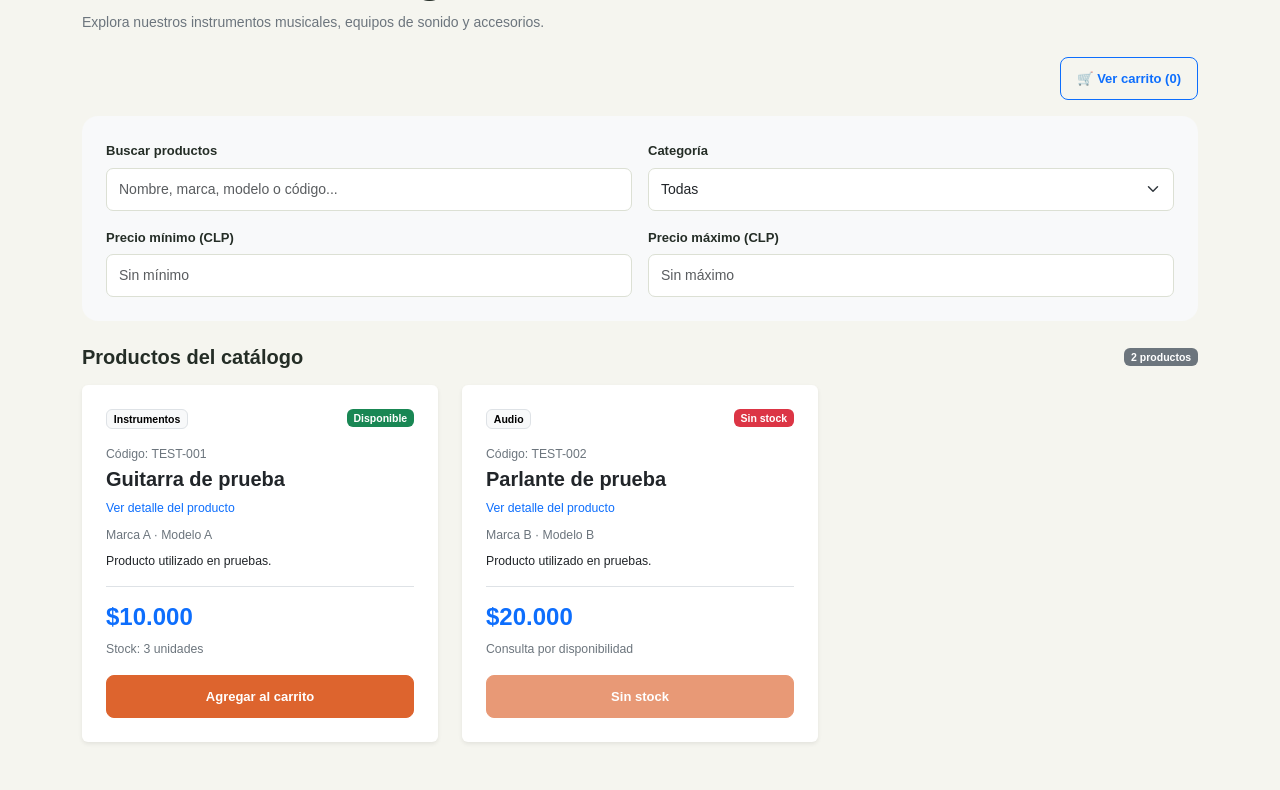
it: CatalogoPage › agrega un producto disponible al carrito
(page scrolled)
Click the button "Agregar al carrito".
click(260, 696)  # box [106, 675, 414, 718]
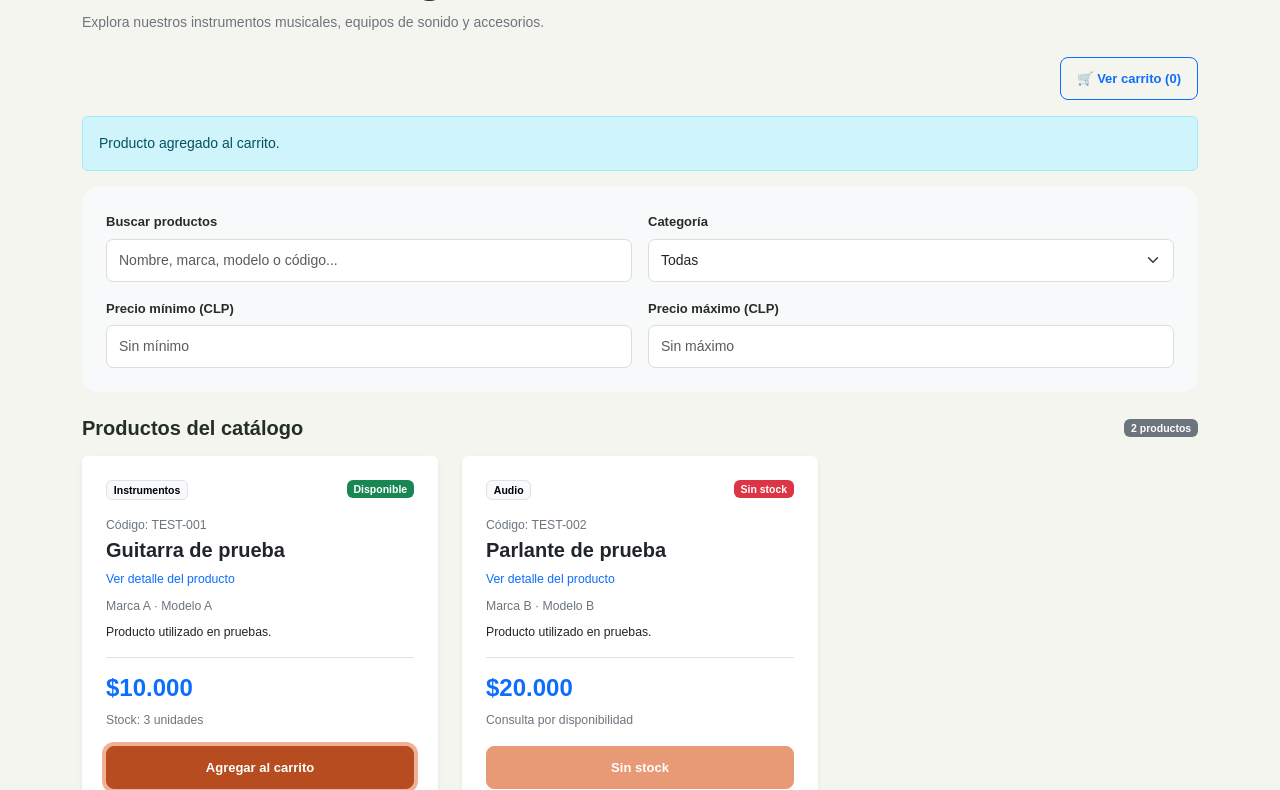
Now the message reads "Producto agregado al carrito.", box [99, 135, 280, 151]
